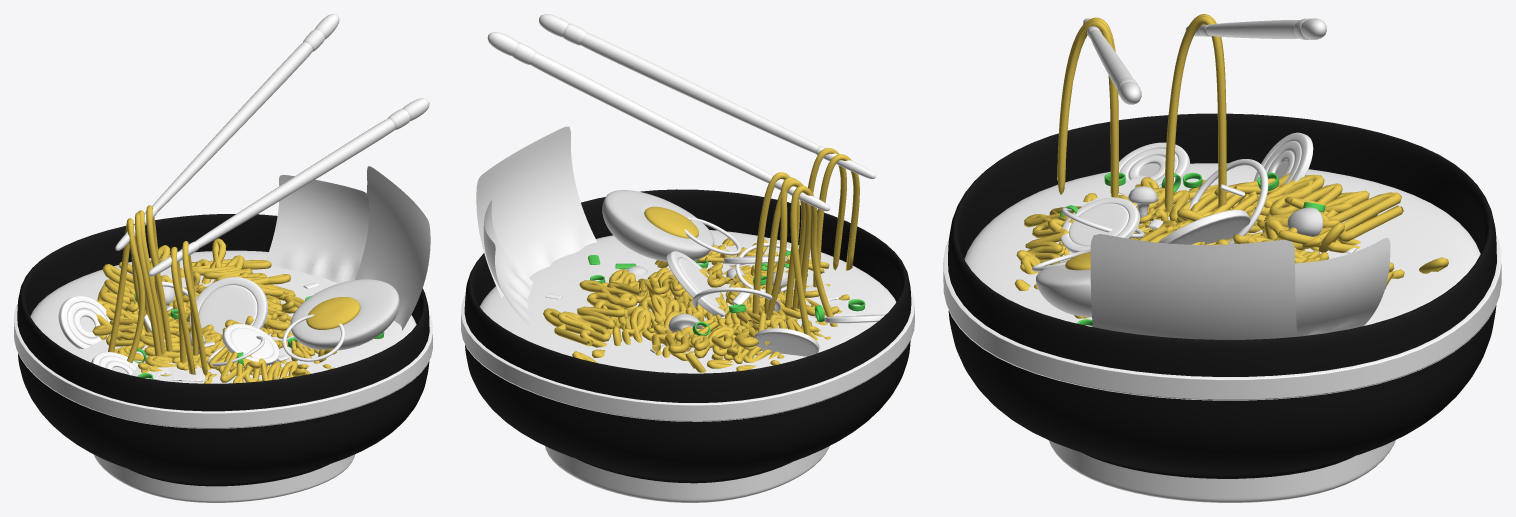
Rendered from noodles-ramen-3d-animated-icon-1402628465949.glb.
3 views of the same model, side by side, from view 1: azimuth 30°, elevation 25°; view 2: azimuth 150°, elevation 25°; view 3: azimuth 270°, elevation 25° (orthographic). The views are drawn at different scales.
Parts seen in each view (by area): view 1: Cube, NurbsPath.031, Cube.005, Plane.001, Cube.003, Cube.001, Plane, Cube.004, Sphere, Cylinder.003, Cylinder.023, Cylinder.001 (+4 smaller); view 2: Cube, NurbsPath.031, Cube.001, Plane, Cube.005, Cube.003, Cube.004, Sphere, Plane.001, Cylinder.003, Cylinder.023, Sphere.001 (+3 smaller); view 3: Cube, Plane, Cube.001, Cube.003, NurbsPath.031, Plane.001, Cube.005, Cube.004, Cylinder.001, Sphere, Cylinder.003, Cylinder.014 (+3 smaller).
Part boxes in pixels (bbox=[...]): Cube: bbox=[17, 214, 429, 502]; NurbsPath.031: bbox=[92, 238, 359, 383]; Cube.005: bbox=[108, 14, 339, 363]; Plane.001: bbox=[266, 174, 369, 283]; Cube.003: bbox=[14, 303, 432, 428]; Cube.001: bbox=[30, 250, 416, 383]; Plane: bbox=[355, 166, 430, 330]; Cube.004: bbox=[148, 98, 429, 375]; Sphere: bbox=[290, 279, 399, 350]; Cylinder.003: bbox=[189, 277, 267, 334]; Cylinder.023: bbox=[58, 296, 110, 348]; Cylinder.001: bbox=[222, 323, 279, 365]; Cube: bbox=[464, 189, 911, 502]; NurbsPath.031: bbox=[543, 238, 849, 372]; Cube.001: bbox=[479, 230, 896, 373]; Plane: bbox=[476, 126, 596, 297]; Cube.005: bbox=[487, 32, 837, 336]; Cube.003: bbox=[461, 290, 914, 421]; Cube.004: bbox=[539, 14, 875, 287]; Sphere: bbox=[602, 190, 714, 261]; Plane.001: bbox=[483, 200, 533, 326]; Cylinder.003: bbox=[666, 251, 725, 316]; Cylinder.023: bbox=[754, 328, 819, 356]; Sphere.001: bbox=[644, 206, 698, 238]; Cube: bbox=[948, 113, 1496, 502]; Plane: bbox=[1090, 234, 1297, 339]; Cube.001: bbox=[964, 163, 1480, 326]; Cube.003: bbox=[943, 233, 1501, 400]; NurbsPath.031: bbox=[1015, 173, 1448, 318]; Plane.001: bbox=[1295, 238, 1390, 336]; Cube.005: bbox=[1164, 14, 1326, 212]; Cube.004: bbox=[1057, 17, 1141, 197]; Cylinder.001: bbox=[1060, 197, 1140, 252]; Sphere: bbox=[1036, 259, 1091, 317]; Cylinder.003: bbox=[1158, 209, 1250, 244]; Cylinder.014: bbox=[1119, 142, 1189, 187].
Bounding box in the file's own units: 5.26 × 5.33 × 5.26.
